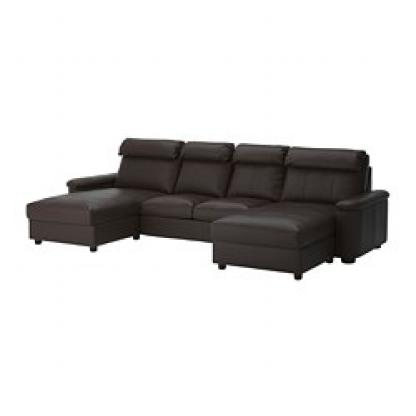Sofa: (18, 123, 393, 301)
